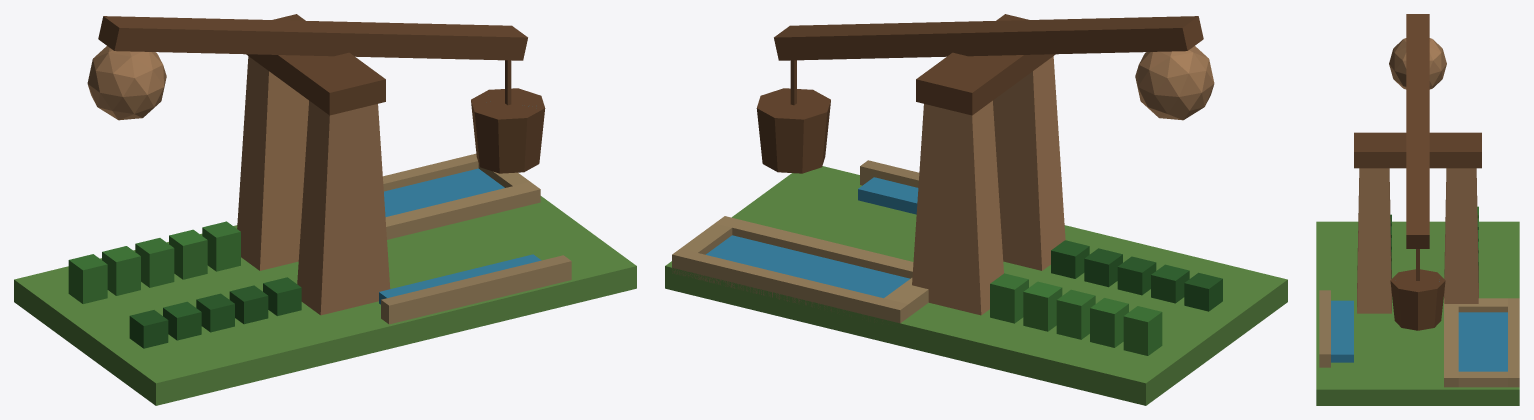
Rendered from Decor_PharaohPyramid_Shaduf.fbx.
3 views of the same model, side by side, from view 1: azimuth 30°, elevation 25°; view 2: azimuth 150°, elevation 25°; view 3: azimuth 270°, elevation 25° (orthographic). The views are drawn at different scales.
Parts seen in each view (by area): view 1: Shaduf_Body; view 2: Shaduf_Body; view 3: Shaduf_Body.
Boxes of the visible parts, bbox=[...] form: Shaduf_Body: bbox=[14, 14, 636, 405]; Shaduf_Body: bbox=[665, 14, 1287, 405]; Shaduf_Body: bbox=[1316, 14, 1519, 405].
Size of the model in its own units: 13.7 by 8.86 by 7.
